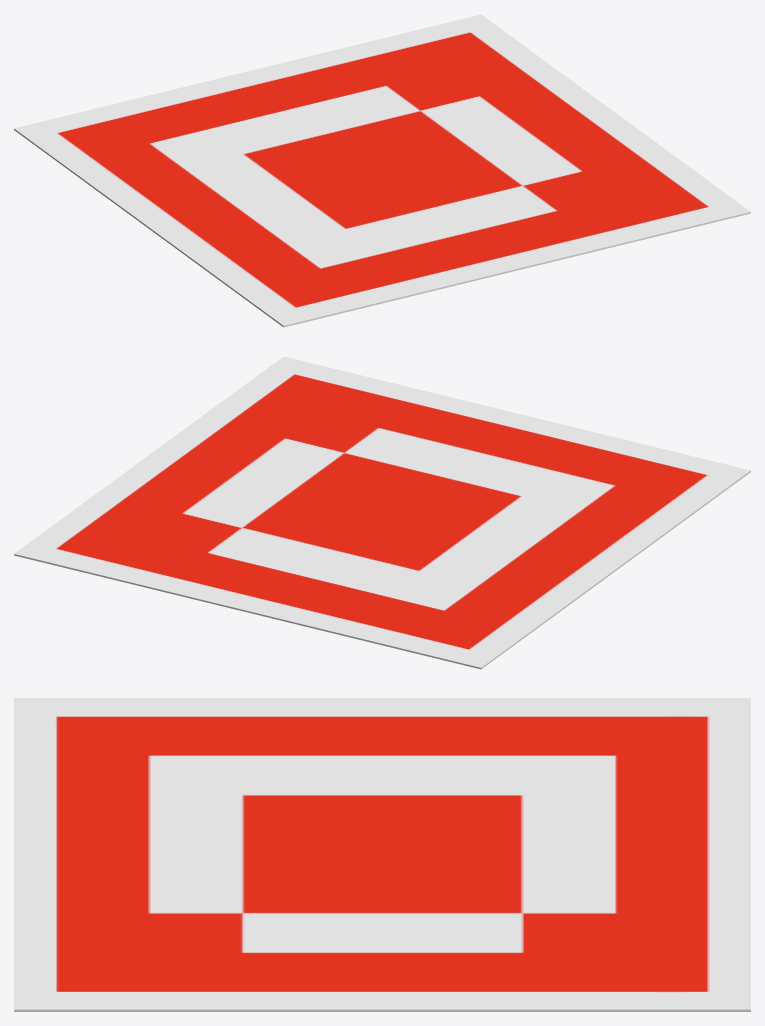
File: tagD.dae
3 views of the same model, one above another, from view 1: azimuth 30°, elevation 25°; view 2: azimuth 150°, elevation 25°; view 3: azimuth 270°, elevation 25° (orthographic). The views are drawn at different scales.
Visible parts, largest first — view 1: 立方体; view 2: 立方体; view 3: 立方体.
Boxes of the visible parts, left/top/right/bottom form: 立方体: left=14, top=14, right=750, bottom=327; 立方体: left=14, top=356, right=750, bottom=669; 立方体: left=14, top=698, right=750, bottom=1011.
Size of the model in its own units: 0.15 by 0.15 by 0.0005.
Materials: 1 (1 with a texture image).
